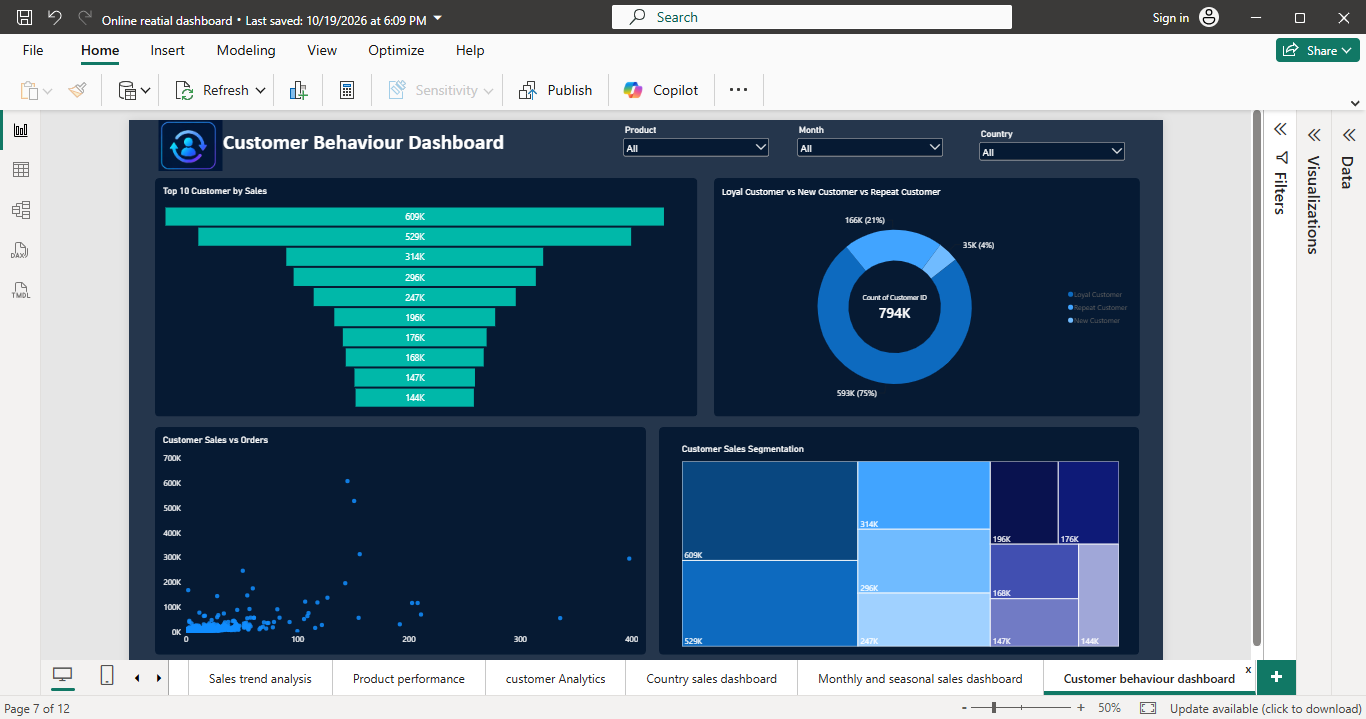

Layout of this report page (visuals, bound fields, positions):
{"tool":"powerbi","page":{"name":"Customer behaviour dashboard","canvas":[2067,1107],"ordinal":6},"visuals":[{"type":"textbox","box":[187.2,16.3,599.5,76],"z":0},{"type":"shape","box":[51.5,116.6,1085,477.4],"z":1000},{"type":"shape","box":[1169.1,116.6,851.8,477.4],"z":2000},{"type":"shape","box":[51.5,613,982,455.7],"z":3000},{"type":"funnel","title":"Top 10 Customer by Sales","fields":{"Category":["Factsales.Customer ID"],"Y":["Factsales.Total Sales"]},"box":[51.5,116.6,1038.9,477.4],"z":4000},{"type":"donutChart","title":"Loyal Customer vs New Customer vs Repeat Customer ","fields":{"Category":["Factsales.Customer Segment"],"Y":["CountNonNull(Factsales.Customer ID)"]},"box":[1169.1,116.6,851.8,477.4],"z":5000},{"type":"shape","box":[1060.6,613,960.3,455.7],"z":6000},{"type":"scatterChart","title":"Customer Sales vs Orders","fields":{"Category":["Factsales.Customer ID"],"X":["Factsales.Total Orders"],"Y":["Factsales.Total Sales"]},"box":[51.5,613,982,455.7],"z":7000},{"type":"treemap","title":"Customer Sales Segmentation","fields":{"Group":["Factsales.Customer ID"],"Values":["Factsales.Total Sales"]},"box":[1090.5,632,906,436.7],"z":8000},{"type":"slicer","fields":{"Values":["Factsales.Country"]},"box":[1695.4,16.3,301.1,92.2],"z":9000},{"type":"slicer","fields":{"Values":["Factsales.Month"]},"box":[1331.9,8.1,301.1,92.2],"z":10000},{"type":"slicer","fields":{"Values":["Factsales.Description"]},"box":[984.7,8.1,301.1,92.2],"z":11000},{"type":"image","box":[0,0,245.9,102.4],"z":12000}]}

Visuals, with their boxes on the page's 2067x1107 design canvas (x1, y1, x2, y2). These are canvas units, not pixel positions in the 1366x719 screenshot, which may show the page scaled, cropped or inside an application window:
textbox: [187, 16, 787, 92]
shape: [52, 117, 1136, 594]
shape: [1169, 117, 2021, 594]
shape: [52, 613, 1034, 1069]
"Top 10 Customer by Sales" funnel: [52, 117, 1090, 594]
"Loyal Customer vs New Customer vs Repeat Customer " donutChart: [1169, 117, 2021, 594]
shape: [1061, 613, 2021, 1069]
"Customer Sales vs Orders" scatterChart: [52, 613, 1034, 1069]
"Customer Sales Segmentation" treemap: [1090, 632, 1996, 1069]
slicer - Factsales.Country: [1695, 16, 1996, 108]
slicer - Factsales.Month: [1332, 8, 1633, 100]
slicer - Factsales.Description: [985, 8, 1286, 100]
image: [0, 0, 246, 102]
